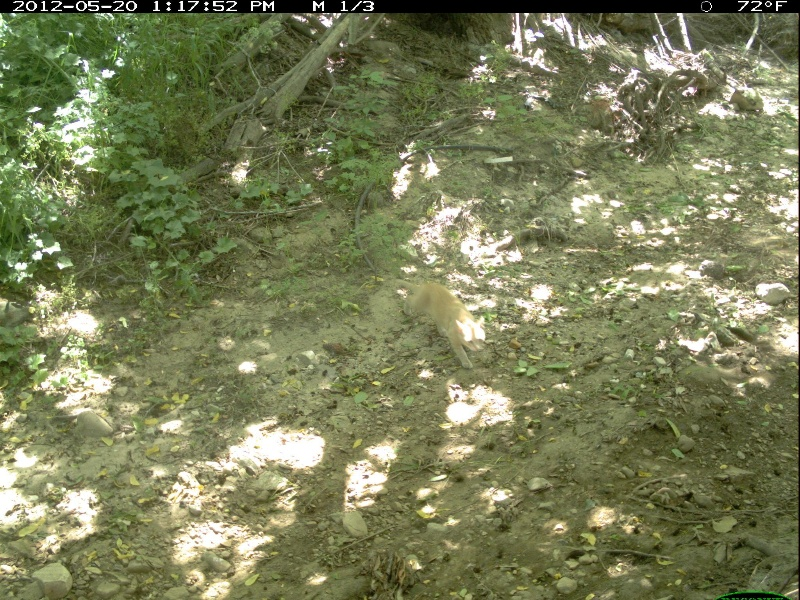cat: (394, 271, 490, 372)
